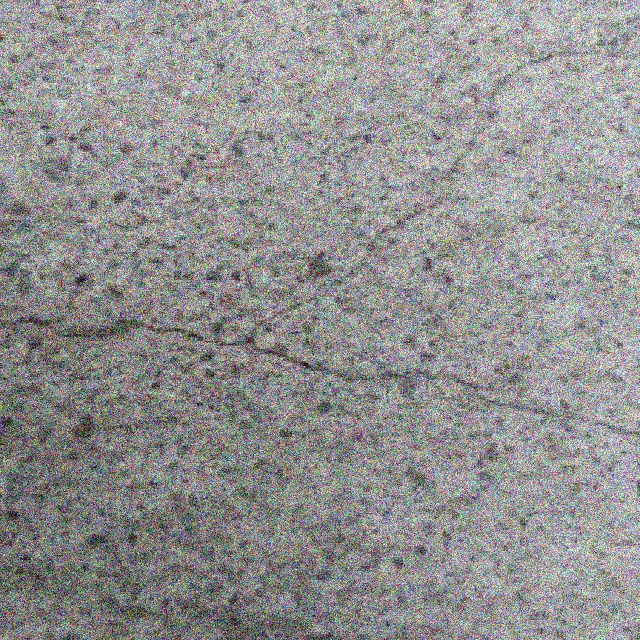SurfaceCrack: (238, 14, 640, 366), (0, 270, 640, 466)
